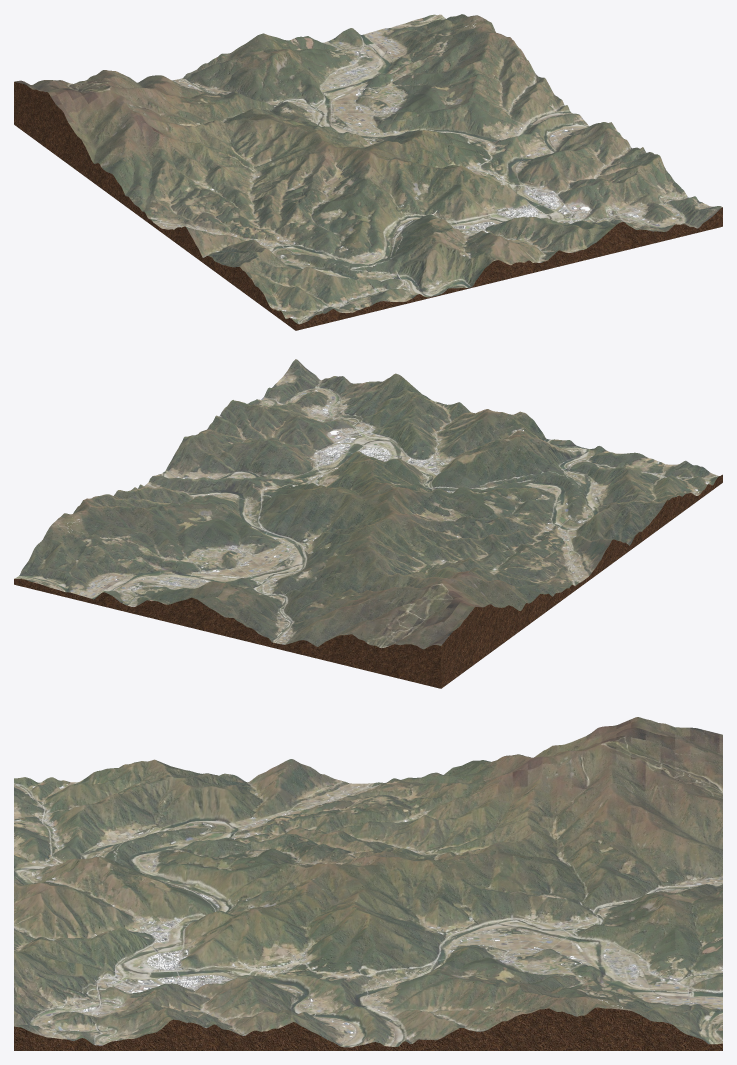
The model's file is maps3d-2026-01-28_10-38-45.glb.
3 renders of one model, top to bottom at view 1: azimuth 30°, elevation 25°; view 2: azimuth 150°, elevation 25°; view 3: azimuth 270°, elevation 25°, orthographic. The views are drawn at different scales.
Parts seen in each view (by area): view 1: tinMesh, side_west_tin, side_south_tin; view 2: tinMesh, side_north_tin, side_west_tin; view 3: tinMesh, side_east_tin.
Boxes of the visible parts, box(x1,y1,x2,y2) form: tinMesh: box(14, 14, 722, 324); side_west_tin: box(14, 82, 295, 330); side_south_tin: box(295, 207, 722, 330); tinMesh: box(14, 359, 719, 649); side_north_tin: box(14, 579, 441, 688); side_west_tin: box(441, 474, 722, 688); tinMesh: box(14, 717, 722, 1047); side_east_tin: box(14, 1007, 722, 1050).
Size of the model in its own units: 12842 by 1686 by 14672.
3 materials, 2 textured.
